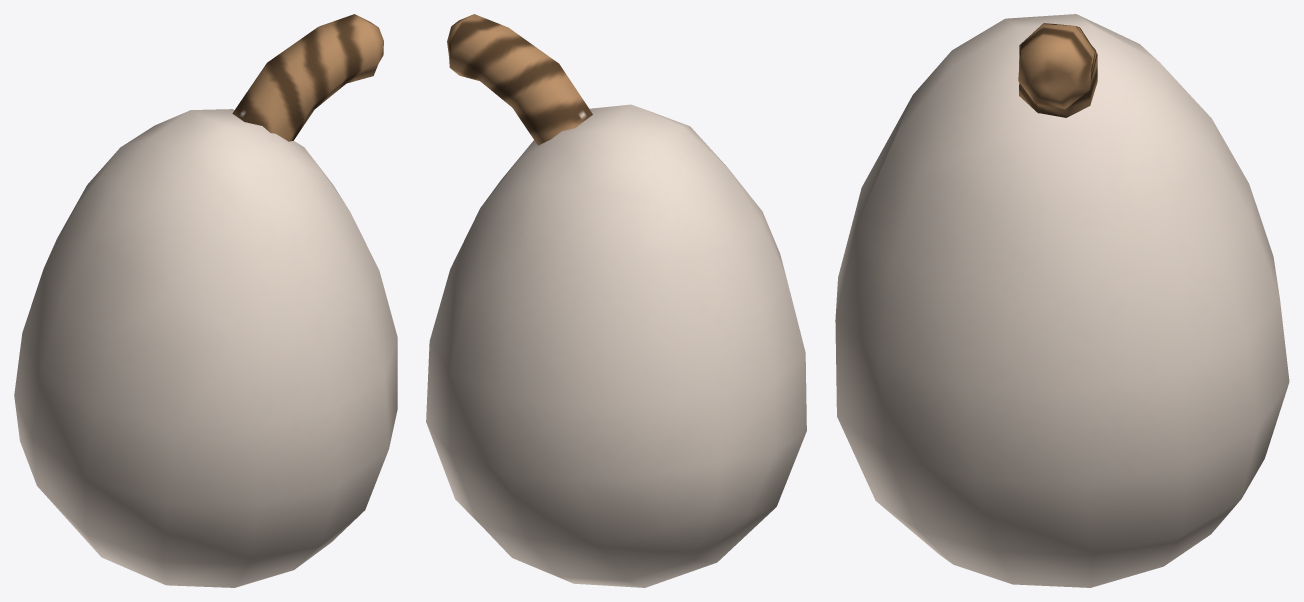
The model's file is SM_TbEggBomb_01.fbx.
The picture shows the model from 3 angles, left to right: view 1: azimuth 30°, elevation 25°; view 2: azimuth 150°, elevation 25°; view 3: azimuth 270°, elevation 25°; orthographic projection. The views are drawn at different scales.
Visible parts, largest first — view 1: EggBomb; view 2: EggBomb; view 3: EggBomb.
Part boxes in pixels (x1,y1,x2,y2): EggBomb: (14,14,397,587); EggBomb: (426,14,806,587); EggBomb: (835,14,1289,587).
Size of the model in its own units: 0.8461 by 1.25 by 0.8373.
1 material, 1 textured.
